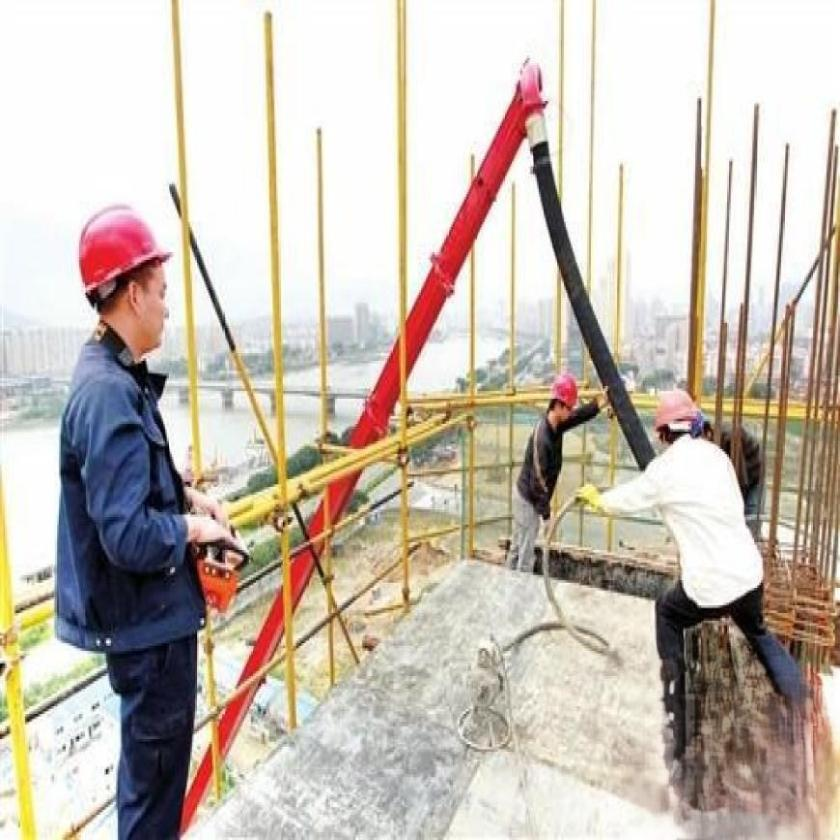Con_casco: (68, 171, 204, 406), (640, 381, 694, 449)
